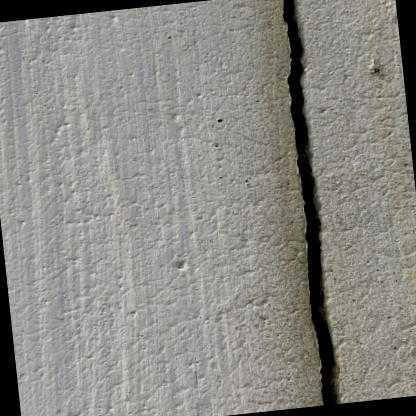crack: (280, 0, 338, 405)
